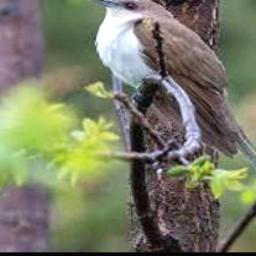Cuckoo: (87, 0, 256, 224)
